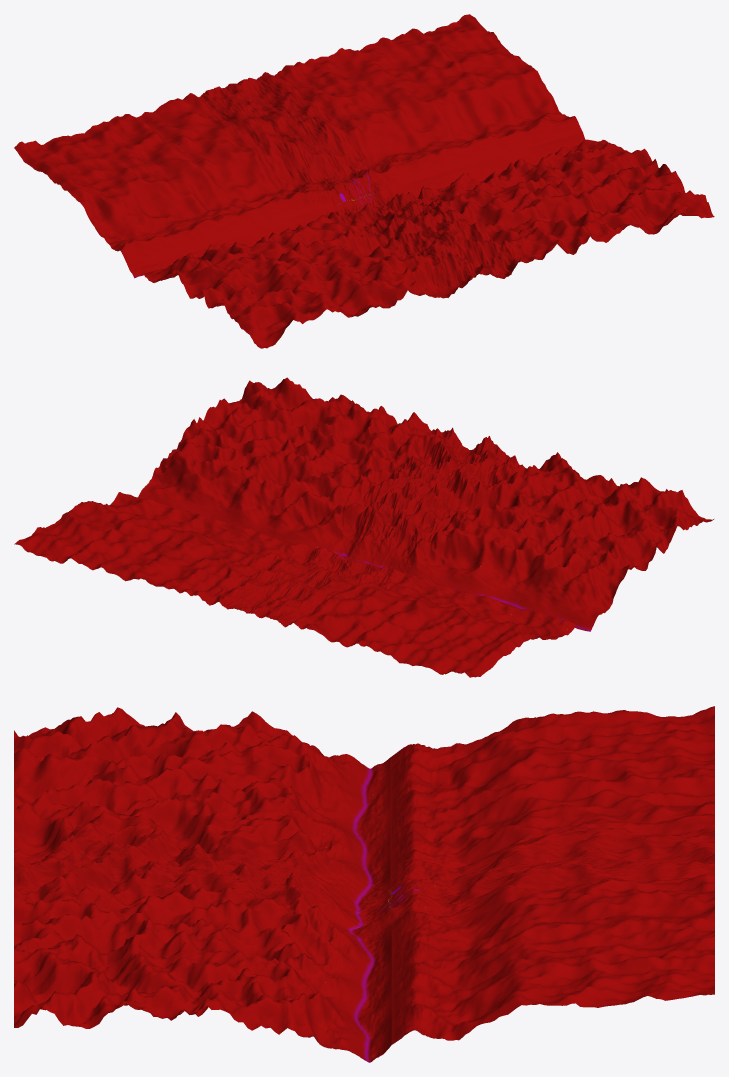
File: terrain.glb
The picture shows the model from 3 angles, top to bottom: view 1: azimuth 30°, elevation 25°; view 2: azimuth 150°, elevation 25°; view 3: azimuth 270°, elevation 25°; orthographic projection. The views are drawn at different scales.
Visible parts, largest first — view 1: terrain_far; view 2: terrain_far; view 3: terrain_far.
Part boxes in pixels (x1,y1,x2,y2): terrain_far: [14, 14, 714, 348]; terrain_far: [14, 377, 713, 677]; terrain_far: [14, 706, 714, 1062].
Size of what is drawn, in the model's own units: 15084 by 2065 by 14042.
